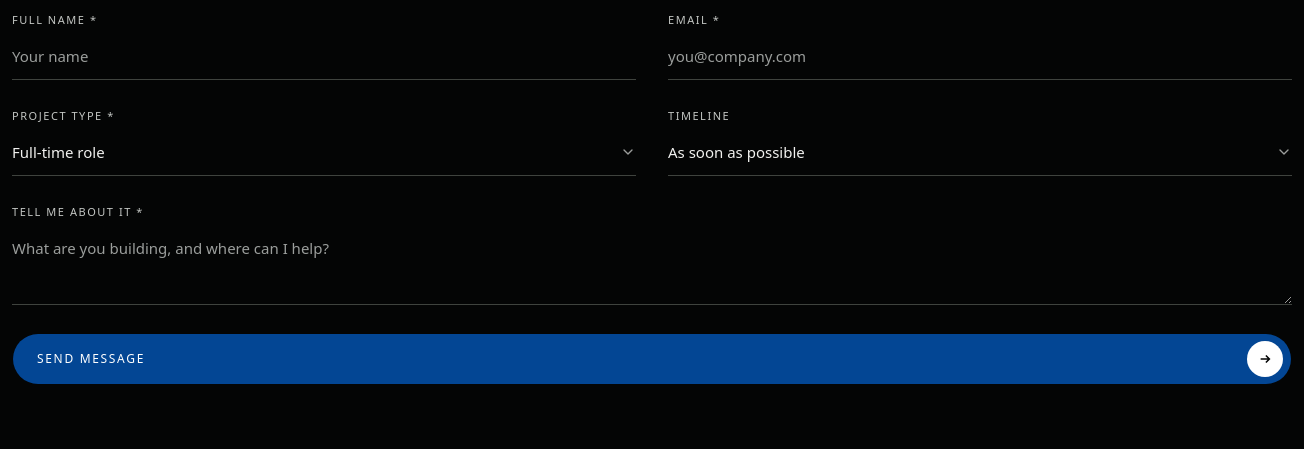
Scenario: ContactForm › menolak format email yang salah
This screenshot has width=1304, height=449.
In the field labelled "Email *": (980, 56) left=668, top=32, right=1292, bottom=80, type "bukan-email"
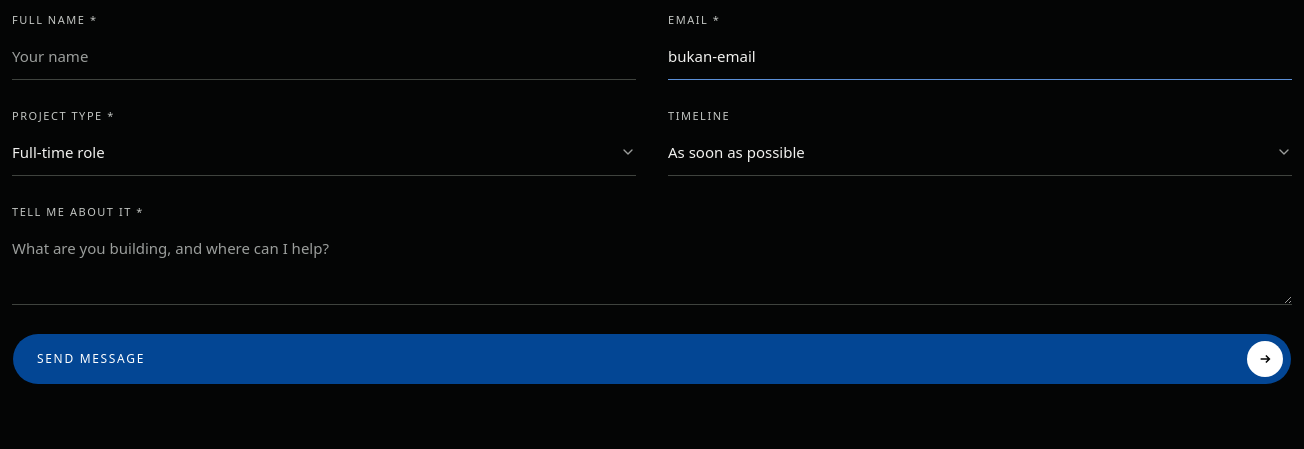
Click the button "Send message": (91, 358) left=12, top=332, right=1292, bottom=384
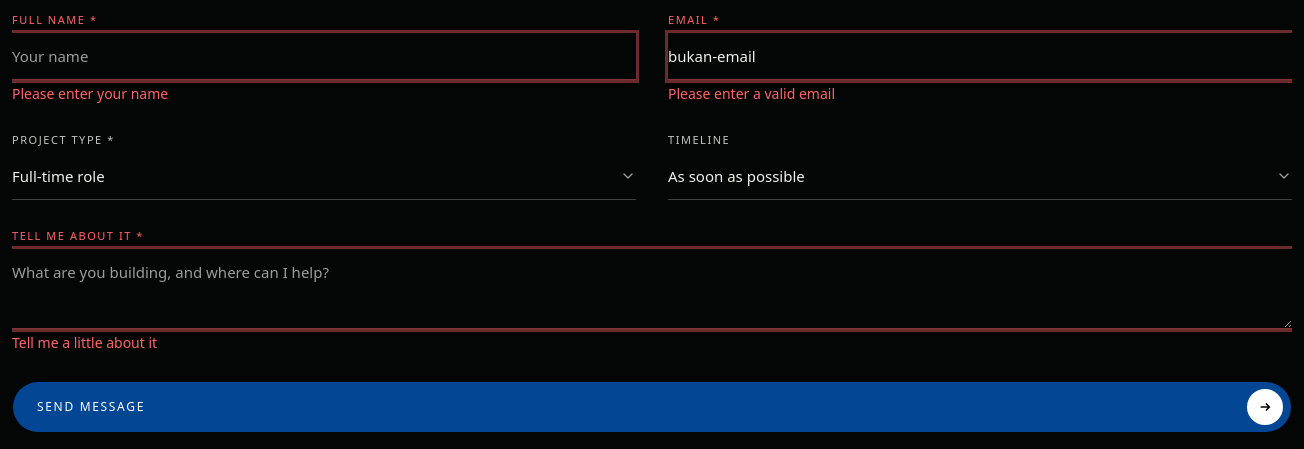
Now the text "Please enter a valid email" is shown, box left=668, top=84, right=835, bottom=103
